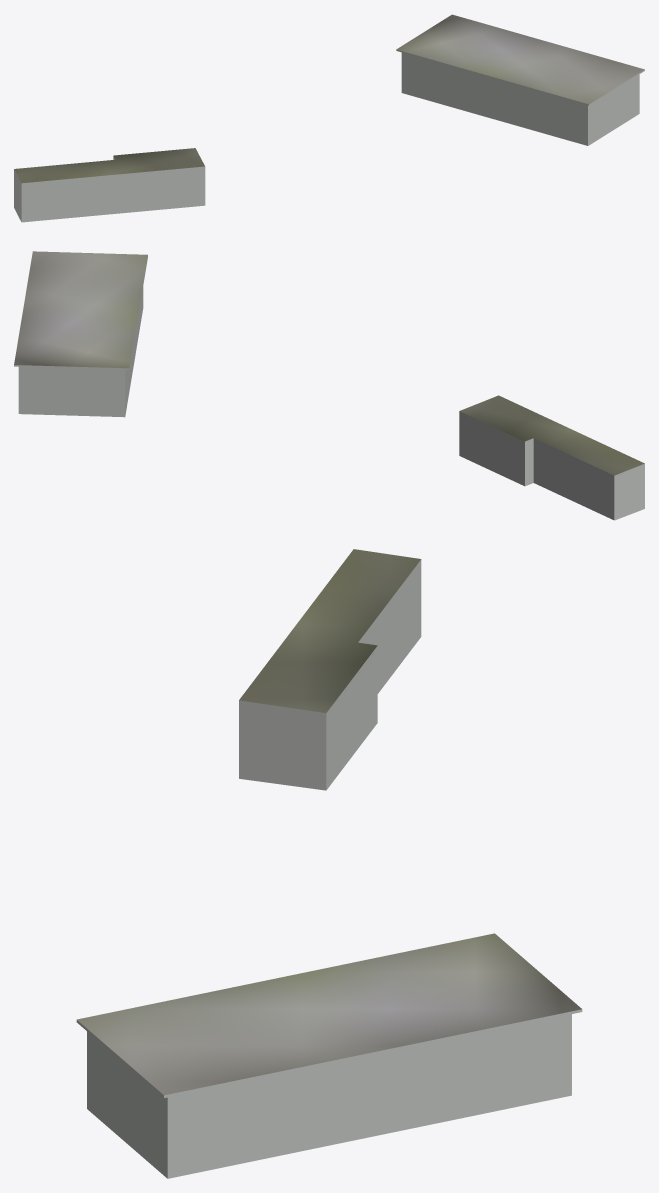
File: LSZH_-1_-1.glb
The picture shows the model from 3 angles, top to bottom: view 1: azimuth 30°, elevation 25°; view 2: azimuth 150°, elevation 25°; view 3: azimuth 270°, elevation 25°; orthographic projection. The views are drawn at different scales.
Parts seen in each view (by area): view 1: building_0c6944eb32857cd7, building_314a56cfa10628bc, building_cdcd3f8860fba816, building_9b911f28b81ae3fa; view 2: building_0c6944eb32857cd7, building_cdcd3f8860fba816, building_314a56cfa10628bc, building_9b911f28b81ae3fa; view 3: building_0c6944eb32857cd7, building_314a56cfa10628bc, building_cdcd3f8860fba816, building_9b911f28b81ae3fa.
Boxes of the visible parts, x1,y1,x2,y2 form: building_0c6944eb32857cd7: (396, 14, 644, 105); building_314a56cfa10628bc: (401, 52, 639, 145); building_cdcd3f8860fba816: (14, 157, 205, 222); building_9b911f28b81ae3fa: (14, 148, 205, 184); building_0c6944eb32857cd7: (14, 251, 147, 369); building_cdcd3f8860fba816: (459, 413, 644, 520); building_314a56cfa10628bc: (18, 286, 143, 417); building_9b911f28b81ae3fa: (459, 395, 644, 476); building_0c6944eb32857cd7: (76, 933, 582, 1097); building_314a56cfa10628bc: (87, 1014, 571, 1178); building_cdcd3f8860fba816: (239, 562, 421, 790); building_9b911f28b81ae3fa: (239, 549, 421, 715).
Size of what is drawn, in the model's own units: 86.67 by 6.78 by 32.95.
2 materials, 1 textured.
